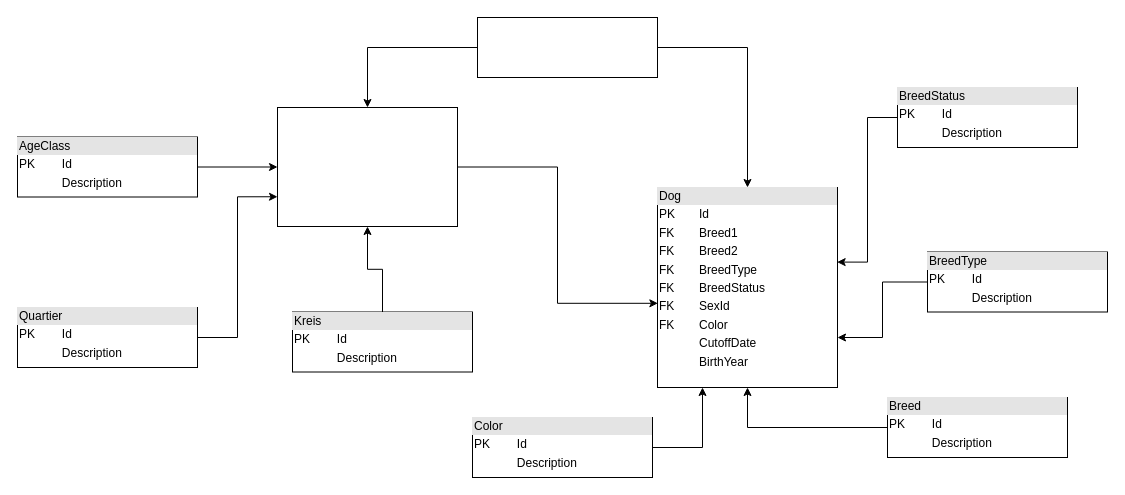
Some shapes in this 1125 by 495 pixel diagram are drawn without their labels. Here are the shapes that lost their labels. From the top down, the centre of each, then its label:
At pixel 567 47: "Sex PK Id Description".
At pixel 367 166: "Owner PK Id FK AgeClassId FK SexId FK KreisID FK QuartierID".
